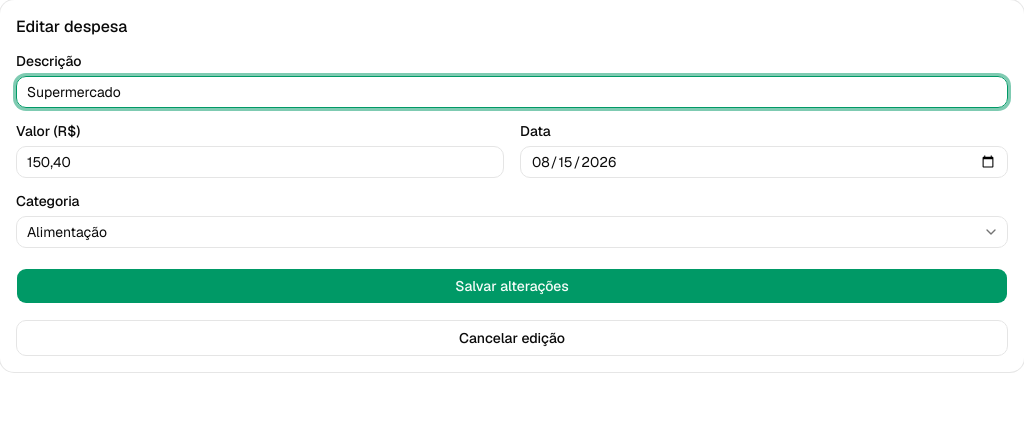
Scenario: <ExpenseForm /> › modo de edição › aplica as mesmas validações do cadastro
Clear the field labelled "Descrição" at (512, 92), box [16, 76, 1008, 108]
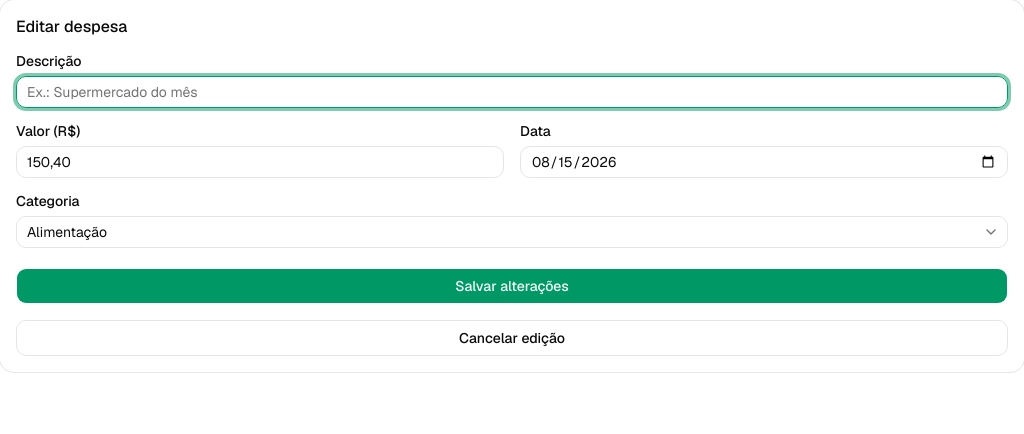
Replace the text in the field labelled "Valor (R$)" with "0" at (260, 162), box [16, 146, 504, 178]
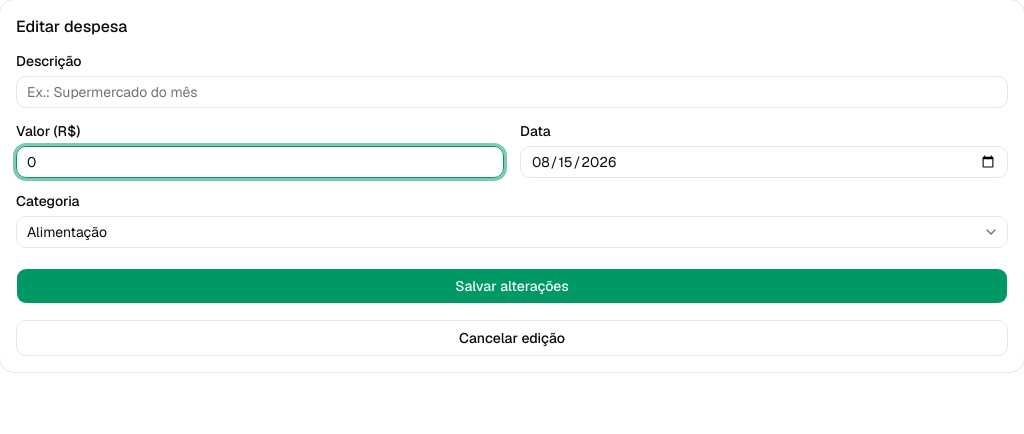
Click the button "Salvar alterações" at (512, 286), box [16, 268, 1008, 304]
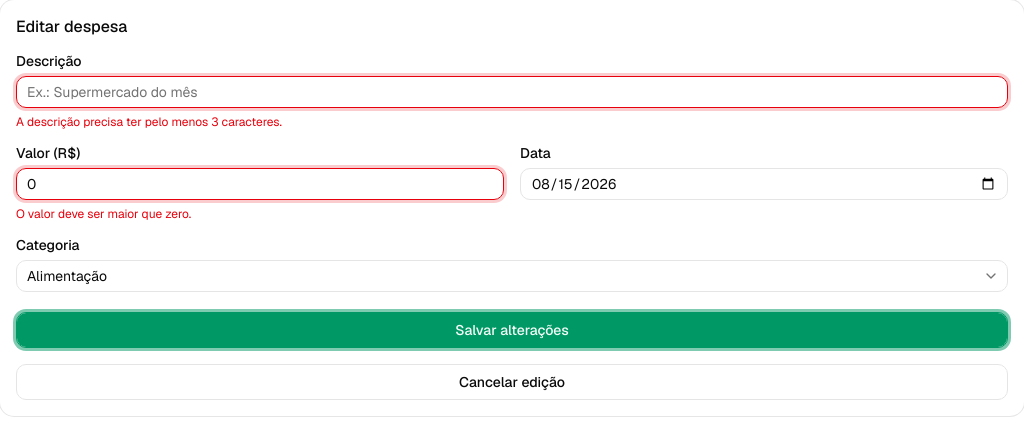
Check: the text "A descrição precisa ter pelo menos 3 caracteres." is shown, box [16, 114, 282, 130]
Check: the text "O valor deve ser maior que zero." is shown, box [16, 206, 191, 222]
